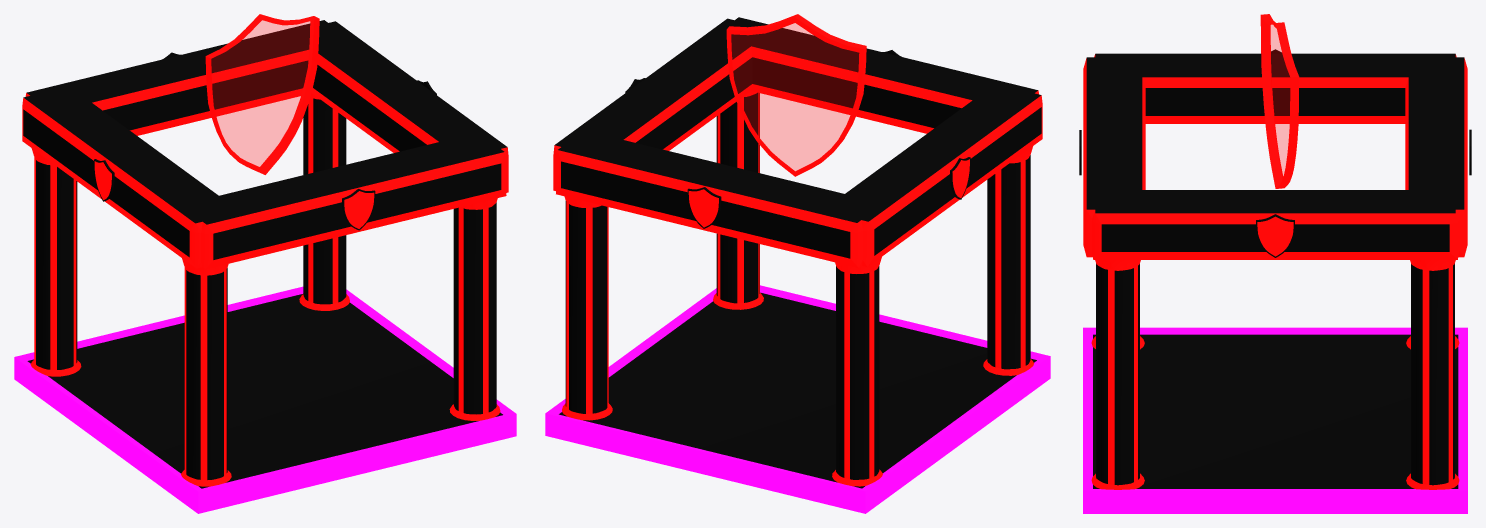
Rendered from Portao_Botao_Fechado_R00.fbx.
3 renders of one model, left to right at view 1: azimuth 30°, elevation 25°; view 2: azimuth 150°, elevation 25°; view 3: azimuth 270°, elevation 25°, orthographic. The views are drawn at different scales.
Visible parts, largest first — view 1: pCube1, Batente2, Batente, Batente3, Batente1, Escudo_grande; view 2: pCube1, Batente2, Batente, Batente1, Escudo_grande, Batente3; view 3: pCube1, Batente, Batente2, Batente1, Batente3, Escudo_grande.
Part boxes in pixels (<box>): pCube1: <box>14,286,516,513</box>; Batente2: <box>22,86,240,486</box>; Batente: <box>290,21,508,420</box>; Batente3: <box>181,133,506,269</box>; Batente1: <box>25,20,350,135</box>; Escudo_grande: <box>205,14,319,174</box>; pCube1: <box>545,285,1050,513</box>; Batente2: <box>823,84,1042,486</box>; Batente: <box>553,18,769,420</box>; Batente1: <box>556,130,882,267</box>; Escudo_grande: <box>726,14,866,176</box>; Batente3: <box>712,17,1038,133</box>; pCube1: <box>1083,327,1467,513</box>; Batente: <box>1091,190,1459,489</box>; Batente2: <box>1091,49,1459,349</box>; Batente1: <box>1405,57,1471,257</box>; Batente3: <box>1079,57,1145,257</box>; Escudo_grande: <box>1260,14,1299,188</box>.
Bounding box in the file's own units: 1.05 × 1.21 × 1.05.
